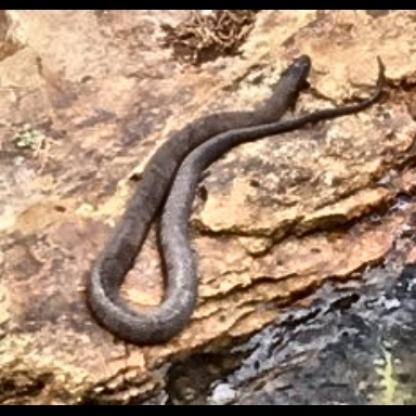Snake: (79, 51, 392, 345)
